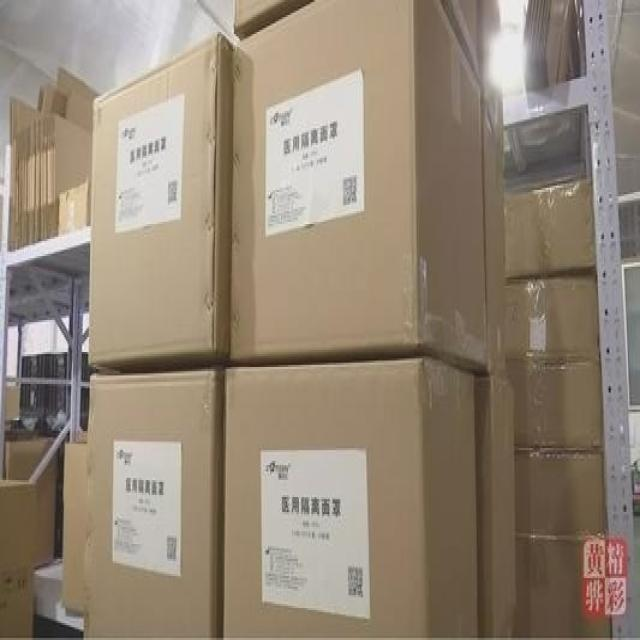box: (230, 1, 490, 373), (223, 357, 480, 638), (88, 33, 234, 374), (84, 363, 224, 638), (515, 448, 611, 637), (506, 265, 603, 452), (475, 371, 516, 636), (504, 173, 597, 279), (483, 84, 508, 374)
